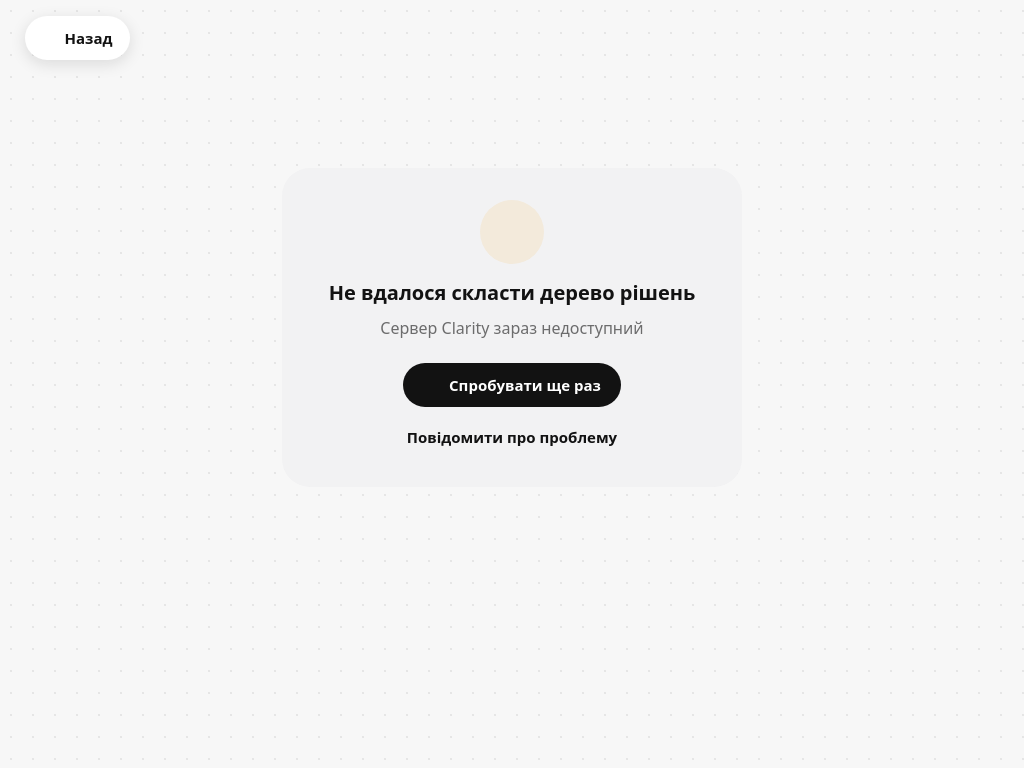
Scenario: дерево рішень › збій — зрозуміле пояснення й повтор
This screenshot has width=1024, height=768.
Check: the heading "Не вдалося скласти дерево рішень" is shown, box [329,280,695,306]
Click the button "Спробувати ще раз": point(512, 385) [403,363,621,407]
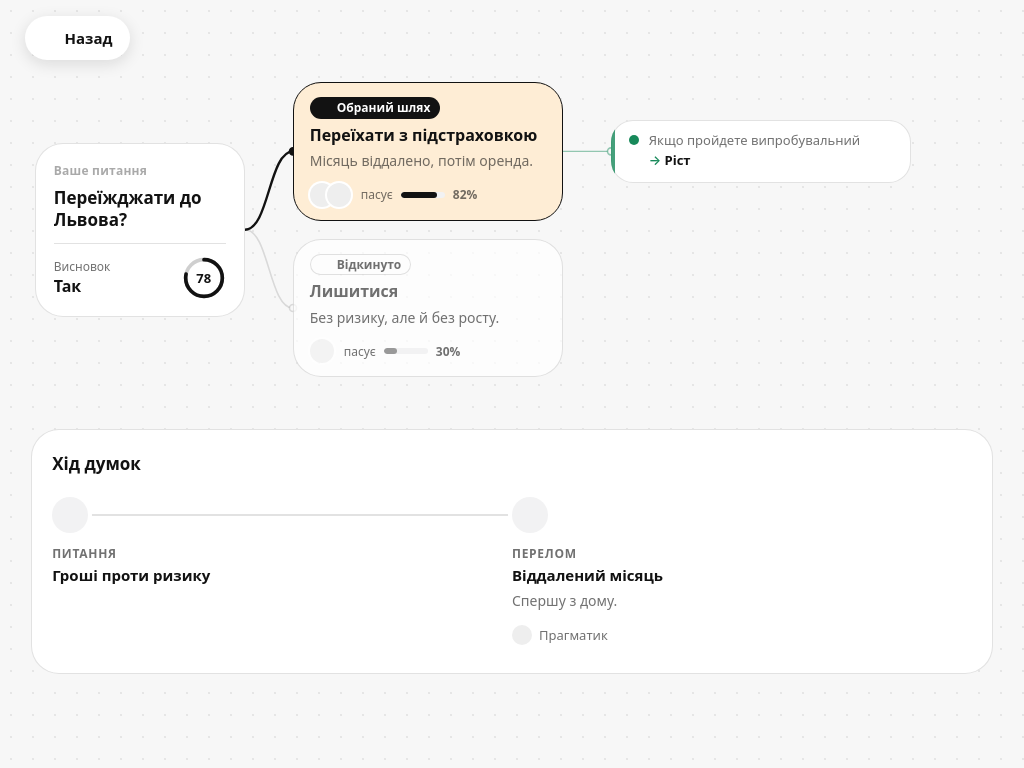
Check: the button "Переїхати з підстраховкою" is shown, box [293,82,563,221]
